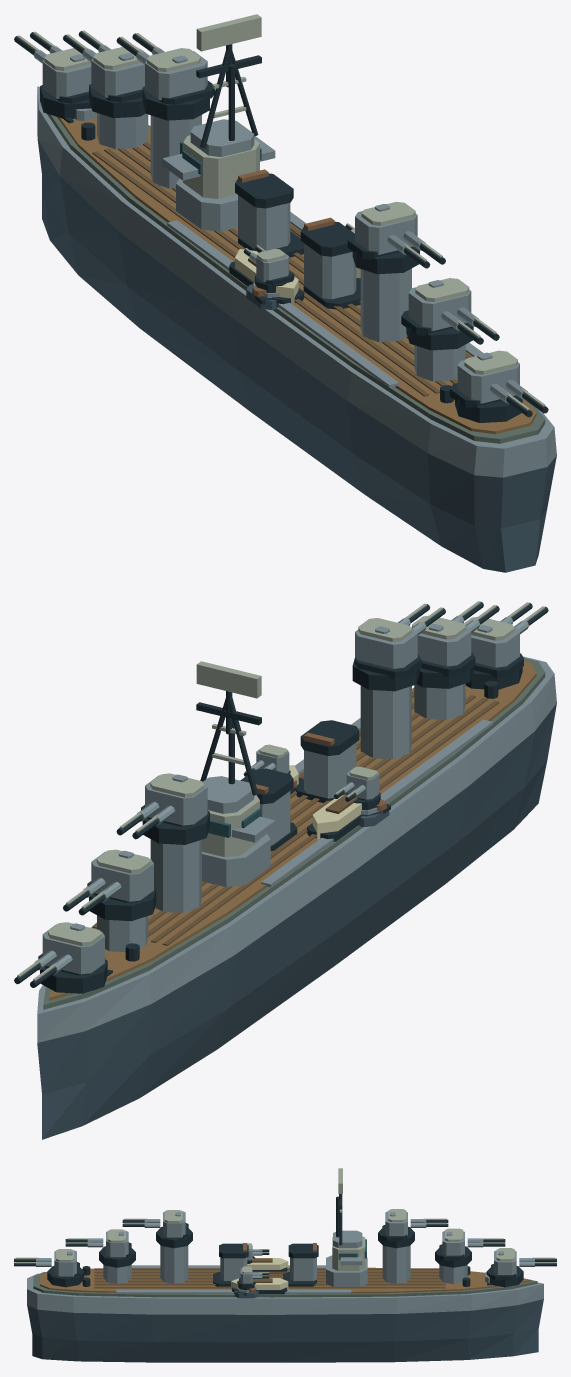
Rendered from historic-worcester.glb.
3 views of the same model, one above another, from view 1: azimuth 30°, elevation 25°; view 2: azimuth 150°, elevation 25°; view 3: azimuth 270°, elevation 25° (orthographic). The views are drawn at different scales.
Parts seen in each view (by area): view 1: historic-worcester-historic-worcester-geometry, historic-worcester-part_bridge.102-geometry, historic-worcester-turret_main_2.062-geometry, historic-worcester-turret_main_4.013-geometry, historic-worcester-turret_main_3.038-geometry, historic-worcester-turret_main_5.007-geometry, historic-worcester-historic_funnel_0.100-geometry, historic-worcester-historic_funnel_1.052-geometry, historic-worcester-turret_main_1.069-geometry, historic-worcester-turret_main_0.073-geometry, historic-worcester-turret_aa_aa-port.104-geometry; view 2: historic-worcester-historic-worcester-geometry, historic-worcester-part_bridge.102-geometry, historic-worcester-turret_main_3.038-geometry, historic-worcester-turret_main_1.069-geometry, historic-worcester-turret_main_0.073-geometry, historic-worcester-turret_main_2.062-geometry, historic-worcester-turret_main_4.013-geometry, historic-worcester-historic_funnel_1.052-geometry, historic-worcester-turret_main_5.007-geometry, historic-worcester-historic_funnel_0.100-geometry, historic-worcester-turret_aa_aa-port.104-geometry, historic-worcester-turret_aa_aa-starboard.100-geometry; view 3: historic-worcester-historic-worcester-geometry, historic-worcester-part_bridge.102-geometry, historic-worcester-turret_main_1.069-geometry, historic-worcester-turret_main_4.013-geometry, historic-worcester-turret_main_5.007-geometry, historic-worcester-turret_main_0.073-geometry, historic-worcester-turret_main_2.062-geometry, historic-worcester-turret_main_3.038-geometry, historic-worcester-historic_funnel_0.100-geometry, historic-worcester-historic_funnel_1.052-geometry, historic-worcester-turret_aa_aa-starboard.100-geometry.
Boxes of the visible parts, left/top/right/bottom form: historic-worcester-historic-worcester-geometry: left=37, top=86, right=556, bottom=572; historic-worcester-part_bridge.102-geometry: left=162, top=14, right=275, bottom=231; historic-worcester-turret_main_2.062-geometry: left=116, top=33, right=214, bottom=120; historic-worcester-turret_main_4.013-geometry: left=401, top=278, right=499, bottom=350; historic-worcester-turret_main_3.038-geometry: left=347, top=201, right=445, bottom=274; historic-worcester-turret_main_5.007-geometry: left=450, top=350, right=548, bottom=422; historic-worcester-historic_funnel_0.100-geometry: left=235, top=169, right=303, bottom=257; historic-worcester-historic_funnel_1.052-geometry: left=300, top=217, right=360, bottom=309; historic-worcester-turret_main_1.069-geometry: left=63, top=30, right=149, bottom=118; historic-worcester-turret_main_0.073-geometry: left=14, top=31, right=95, bottom=118; historic-worcester-turret_aa_aa-port.104-geometry: left=243, top=245, right=294, bottom=293; historic-worcester-historic-worcester-geometry: left=37, top=656, right=556, bottom=1139; historic-worcester-part_bridge.102-geometry: left=196, top=661, right=275, bottom=886; historic-worcester-turret_main_3.038-geometry: left=352, top=603, right=445, bottom=691; historic-worcester-turret_main_1.069-geometry: left=63, top=849, right=156, bottom=921; historic-worcester-turret_main_0.073-geometry: left=14, top=922, right=107, bottom=993; historic-worcester-turret_main_2.062-geometry: left=116, top=773, right=209, bottom=844; historic-worcester-turret_main_4.013-geometry: left=411, top=601, right=499, bottom=688; historic-worcester-historic_funnel_1.052-geometry: left=295, top=720, right=359, bottom=802; historic-worcester-turret_main_5.007-geometry: left=464, top=602, right=548, bottom=689; historic-worcester-historic_funnel_0.100-geometry: left=240, top=768, right=297, bottom=851; historic-worcester-turret_aa_aa-port.104-geometry: left=334, top=766, right=380, bottom=810; historic-worcester-turret_aa_aa-starboard.100-geometry: left=243, top=744, right=290, bottom=776; historic-worcester-historic-worcester-geometry: left=27, top=1245, right=543, bottom=1362; historic-worcester-part_bridge.102-geometry: left=326, top=1168, right=367, bottom=1286; historic-worcester-turret_main_1.069-geometry: left=435, top=1228, right=505, bottom=1267; historic-worcester-turret_main_4.013-geometry: left=65, top=1229, right=135, bottom=1267; historic-worcester-turret_main_5.007-geometry: left=14, top=1249, right=84, bottom=1287; historic-worcester-turret_main_0.073-geometry: left=486, top=1248, right=556, bottom=1287; historic-worcester-turret_main_2.062-geometry: left=378, top=1209, right=448, bottom=1248; historic-worcester-turret_main_3.038-geometry: left=122, top=1210, right=192, bottom=1248; historic-worcester-historic_funnel_0.100-geometry: left=283, top=1243, right=318, bottom=1286; historic-worcester-historic_funnel_1.052-geometry: left=213, top=1243, right=248, bottom=1286; historic-worcester-turret_aa_aa-starboard.100-geometry: left=237, top=1266, right=269, bottom=1290.
Size of the model in its own units: 0.6662 by 1.62 by 4.54.
